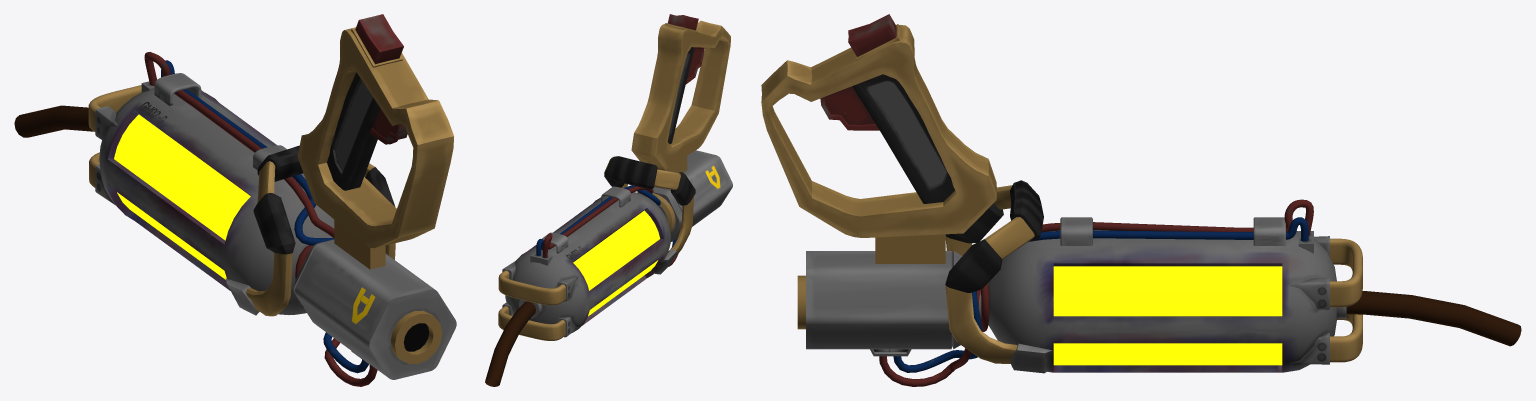
File: sf_grapplinghook.fbx
3 renders of one model, left to right at view 1: azimuth 30°, elevation 25°; view 2: azimuth 150°, elevation 25°; view 3: azimuth 270°, elevation 25°, orthographic. The views are drawn at different scales.
Visible parts, largest first — view 1: barrel.003; view 2: barrel.003; view 3: barrel.003.
Boxes of the visible parts, left/top/right/bottom form: barrel.003: left=14, top=14, right=456, bottom=386; barrel.003: left=485, top=14, right=732, bottom=386; barrel.003: left=761, top=14, right=1521, bottom=386.
Size of the model in its own units: 18.06 by 50.27 by 93.78.
